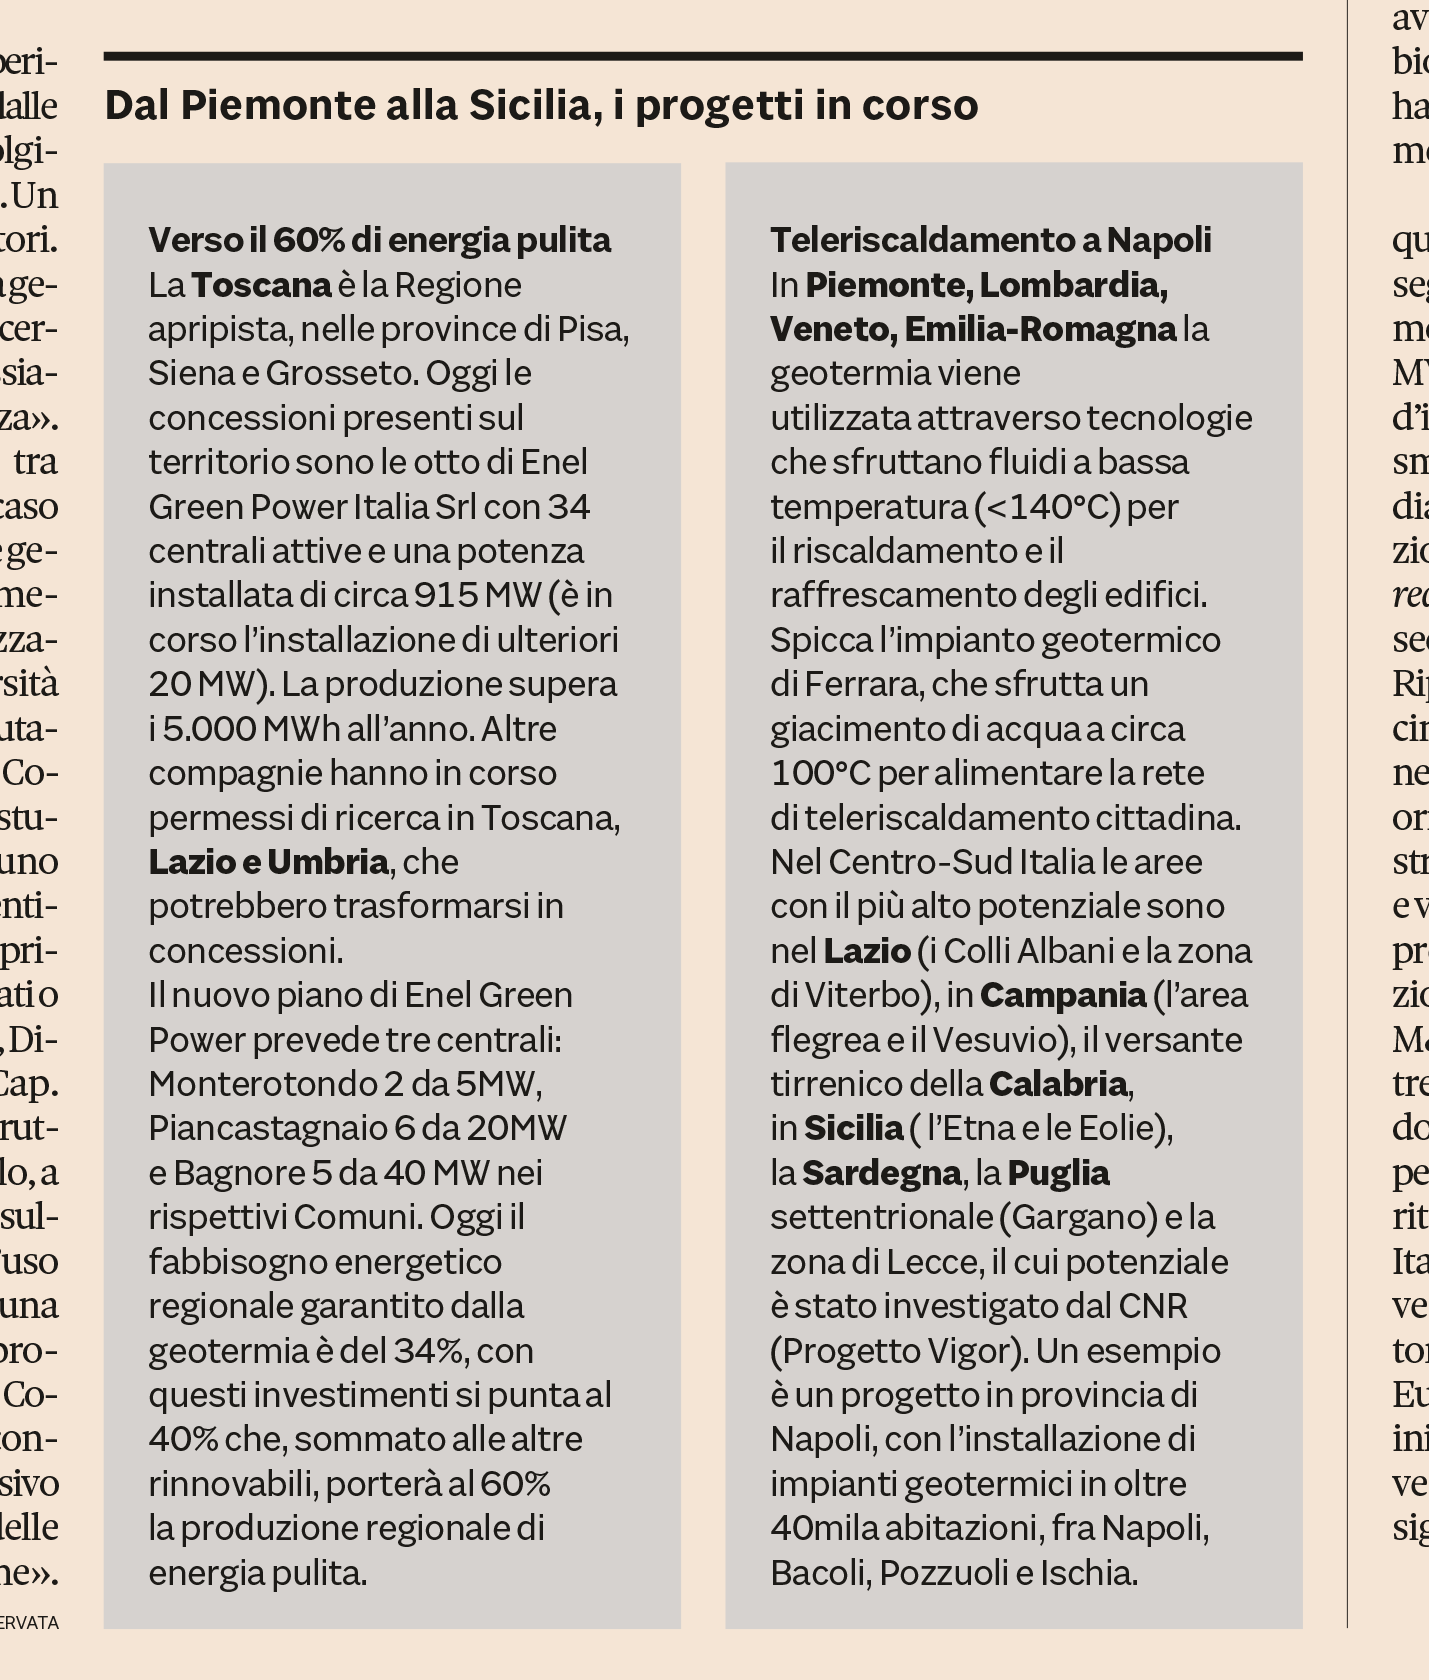scheda-testo-0: (707, 140, 1333, 1652), (82, 138, 706, 1650)
